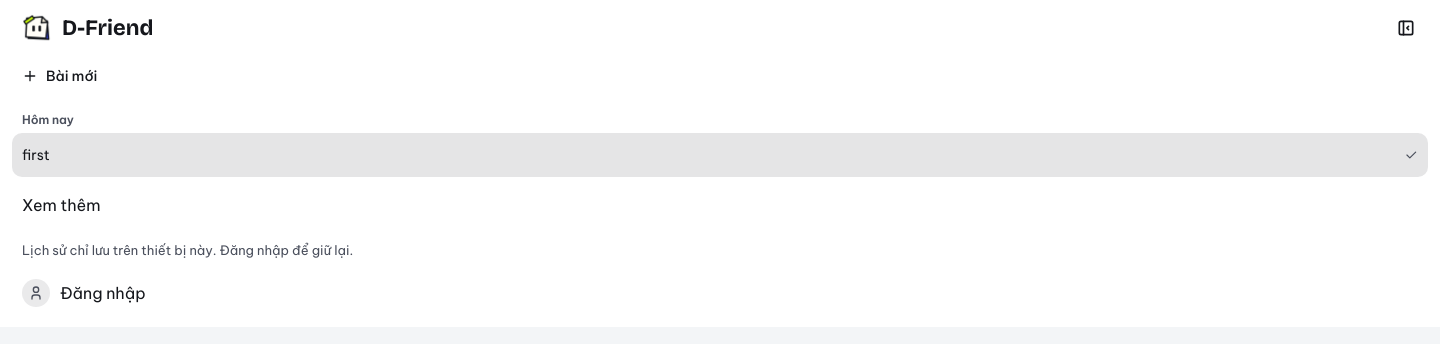
groups sessions, marks current, renders metadata, and appends the next page
Expected: the heading "Hôm nay" is shown, left=22, top=112, right=74, bottom=127
Click the button "Xem thêm".
click(61, 205)  # box left=12, top=185, right=1428, bottom=225
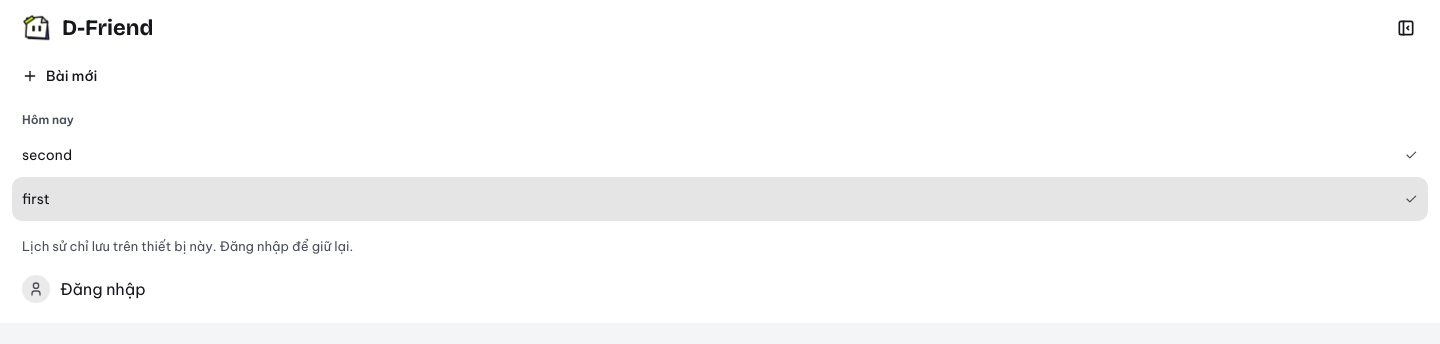
Expected: the button "first" is shown, left=12, top=177, right=1428, bottom=221
Now the button "second" is shown, box left=12, top=133, right=1428, bottom=177
